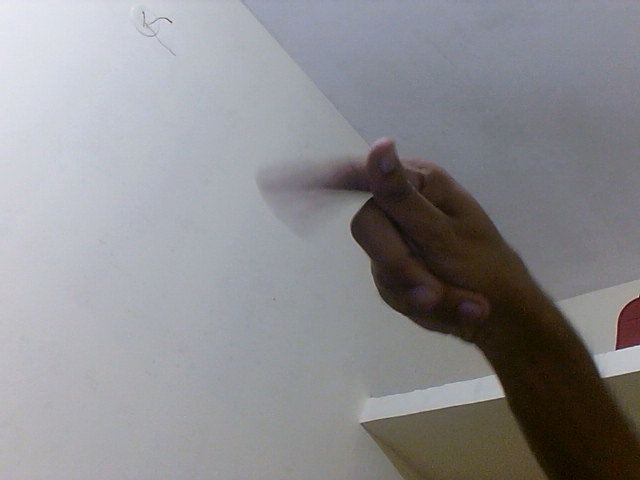hand: (254, 138, 548, 353)
